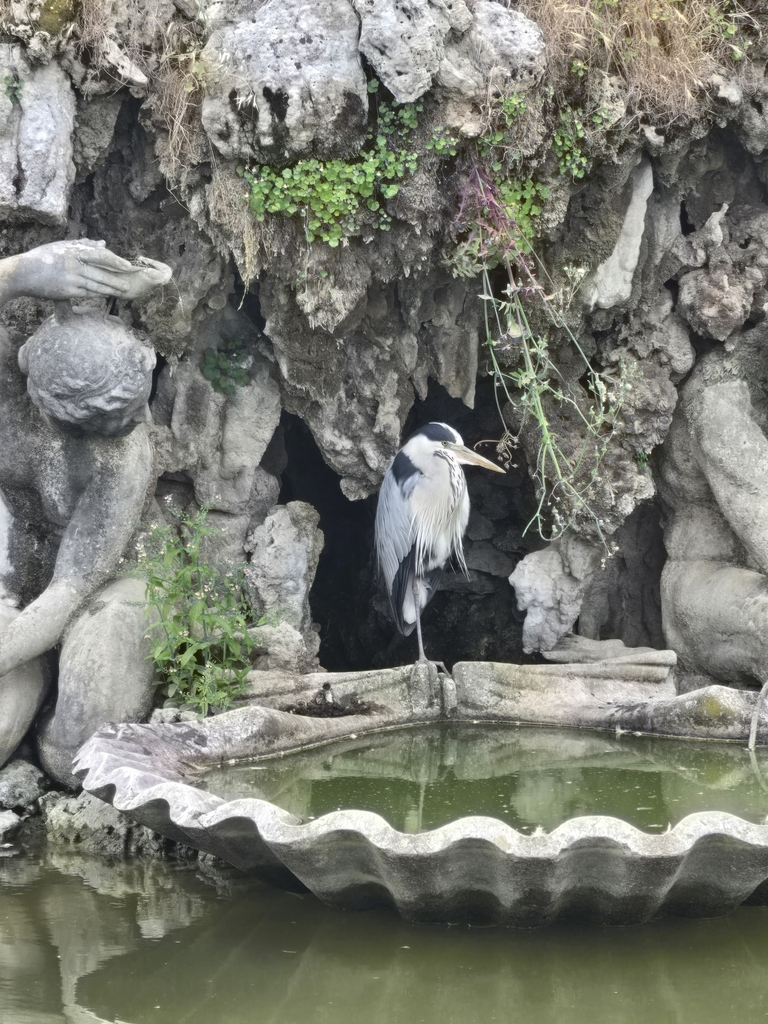heron: (374, 421, 508, 698)
